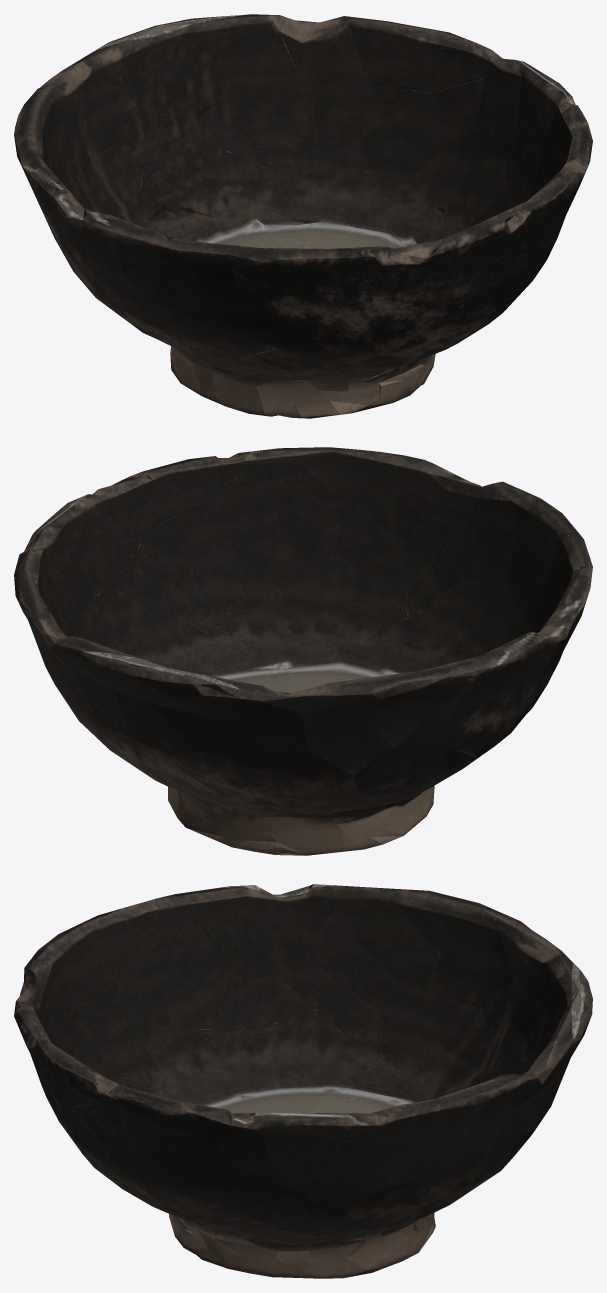
File: cold_cup_game.glb
3 views of the same model, one above another, from view 1: azimuth 30°, elevation 25°; view 2: azimuth 150°, elevation 25°; view 3: azimuth 270°, elevation 25° (orthographic).
Bounding box in the file's own units: 1.86 × 0.8553 × 1.9.
Materials: 1 (1 with a texture image).
